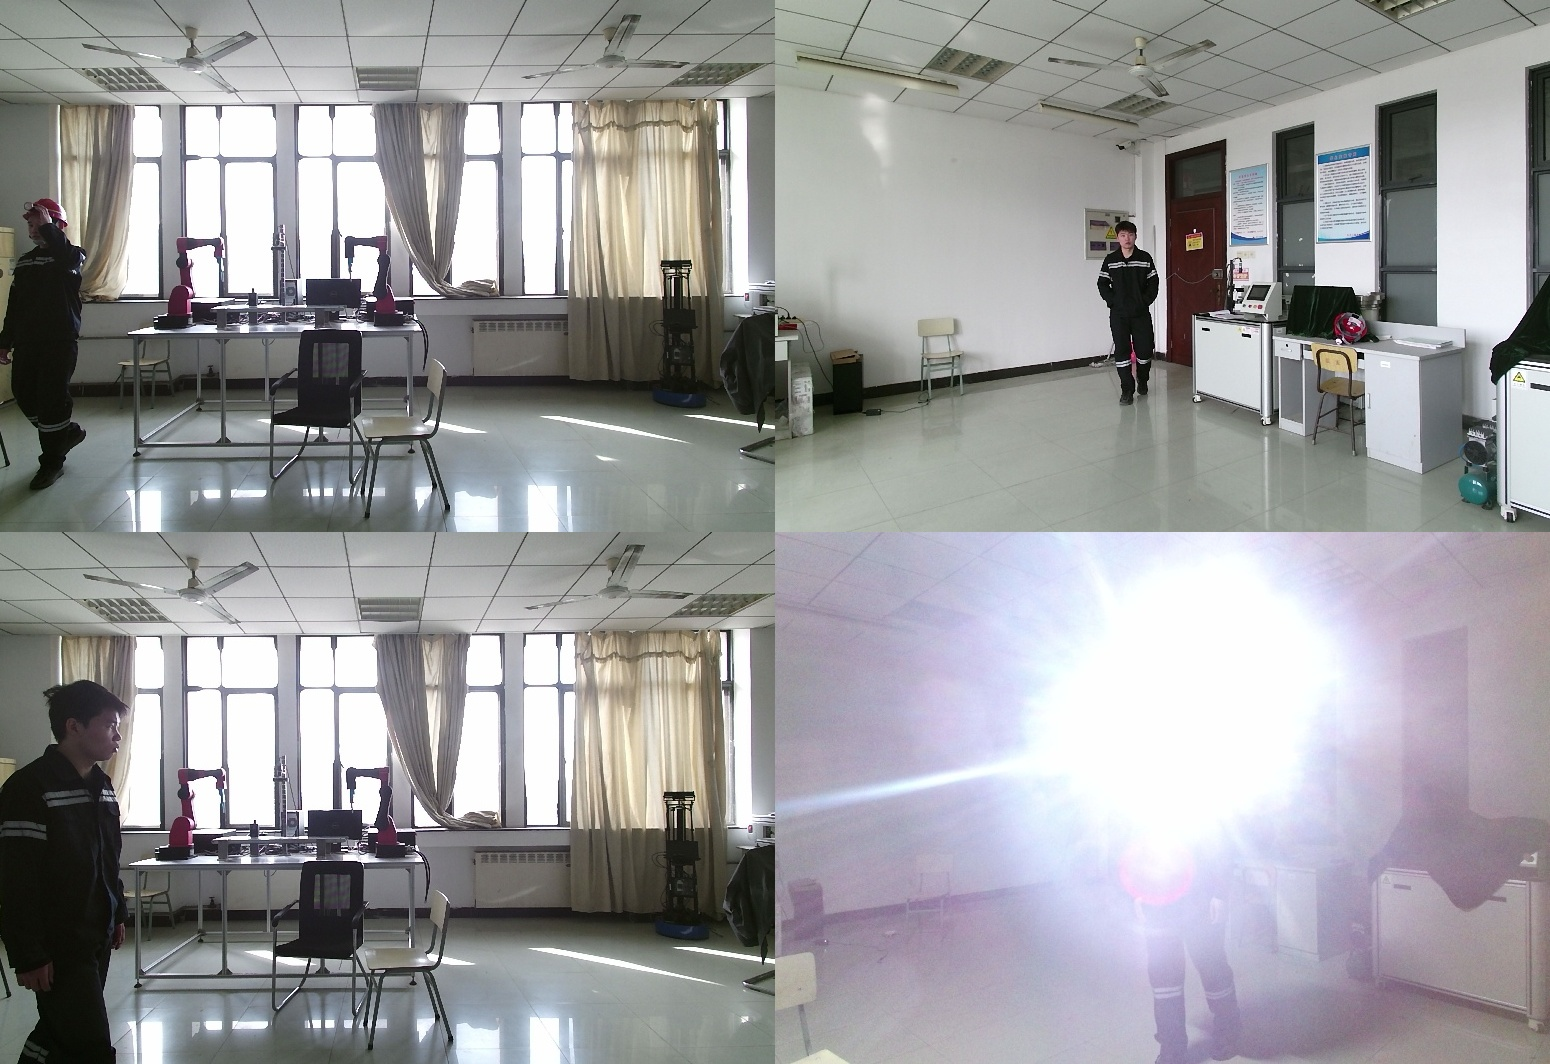person: (1, 684, 133, 1064), (1132, 710, 1257, 1064), (3, 200, 90, 488), (1096, 224, 1162, 410)
